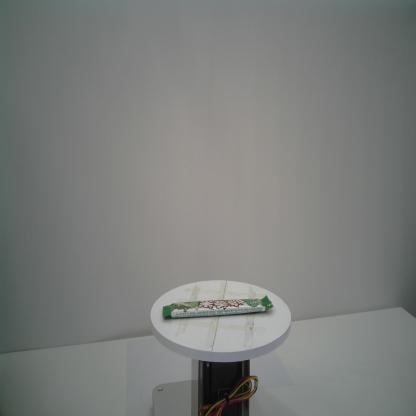Chocolate: (161, 292, 275, 320)
